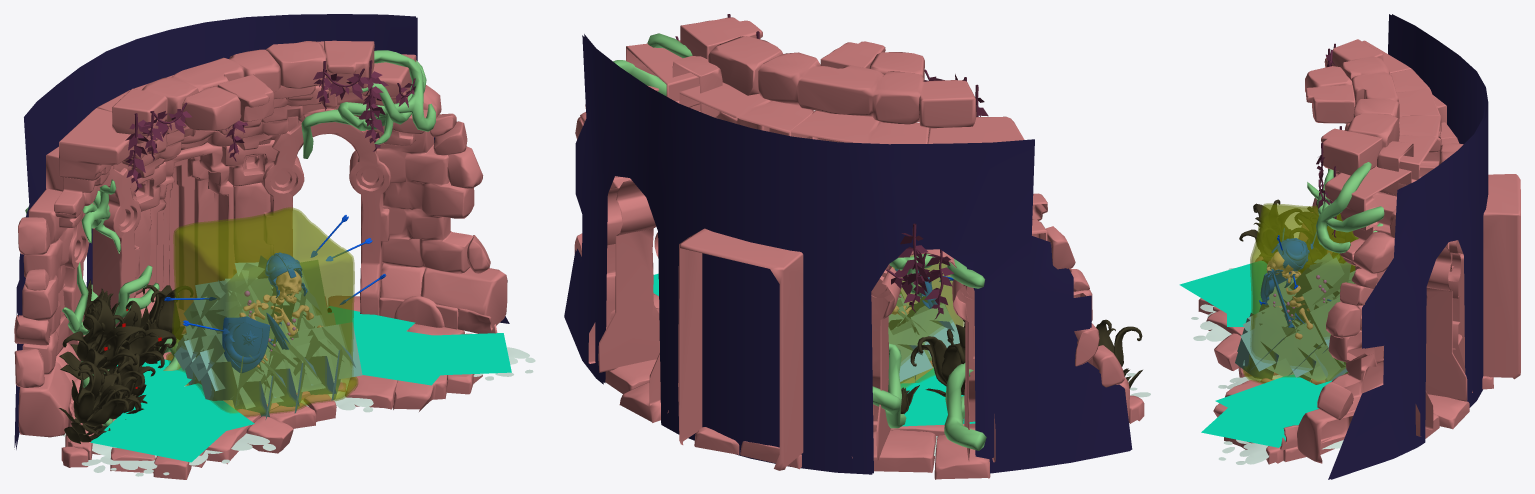
Rendered from Gelatinous_Cube.fbx.
3 renders of one model, left to right at view 1: azimuth 30°, elevation 25°; view 2: azimuth 150°, elevation 25°; view 3: azimuth 270°, elevation 25°, orthographic. The views are drawn at different scales.
Visible parts, largest first — view 1: arch, polySurface2, polySurface325, pCylinderdsfsdgsdg1, VFX_Smoke1, temp_groundfog:pCube195, plants1, group2, Ivy_Small1, weapons1, dirt, skeleton (+1 smaller); view 2: pCylinderdsfsdgsdg2, arch, group2, polySurface2, VFX_Smoke1, polySurface325, plants1, Ivy_Small1, pCylinderdsfsdgsdg1, temp_groundfog:pCube195; view 3: arch, pCylinderdsfsdgsdg2, polySurface2, polySurface325, VFX_Smoke1, temp_groundfog:pCube195, pCylinderdsfsdgsdg1, plants1, group2, weapons1, dirt, skeleton (+1 smaller).
Boxes of the visible parts, x1,y1,x2,y2 form: arch: (14, 40, 507, 479); polySurface2: (166, 207, 358, 417); polySurface325: (167, 209, 356, 415); pCylinderdsfsdgsdg1: (16, 15, 509, 449); VFX_Smoke1: (174, 255, 362, 419); temp_groundfog:pCube195: (90, 306, 511, 462); plants1: (59, 279, 193, 443); group2: (25, 50, 435, 426); Ivy_Small1: (125, 60, 415, 191); weapons1: (164, 215, 386, 372); dirt: (62, 305, 535, 476); skeleton: (239, 270, 322, 367); pCylinderdsfsdgsdg2: (564, 35, 1130, 474); arch: (574, 17, 1144, 479); group2: (613, 33, 986, 450); polySurface2: (888, 255, 964, 388); VFX_Smoke1: (888, 292, 959, 382); polySurface325: (889, 255, 962, 388); plants1: (900, 319, 1142, 413); Ivy_Small1: (675, 14, 988, 319); pCylinderdsfsdgsdg1: (577, 34, 1132, 473); temp_groundfog:pCube195: (653, 273, 975, 426); arch: (1198, 39, 1520, 464); pCylinderdsfsdgsdg2: (1331, 14, 1488, 479); polySurface2: (1242, 203, 1358, 384); polySurface325: (1244, 205, 1358, 384); VFX_Smoke1: (1235, 252, 1355, 382); temp_groundfog:pCube195: (1179, 261, 1332, 447); pCylinderdsfsdgsdg1: (1328, 14, 1485, 479); plants1: (1239, 199, 1356, 273); group2: (1307, 162, 1384, 259); weapons1: (1259, 228, 1331, 328); dirt: (1191, 268, 1343, 464); skeleton: (1266, 251, 1313, 339).
Bounding box in the file's own units: 18.04 × 11.15 × 11.75.
